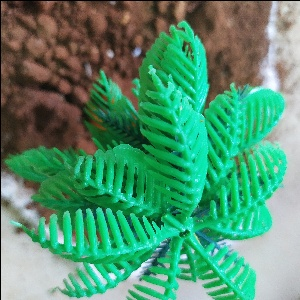plant: (7, 33, 289, 299)
